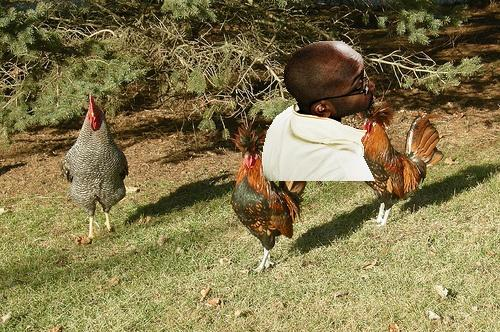tampered: (263, 42, 375, 181)
